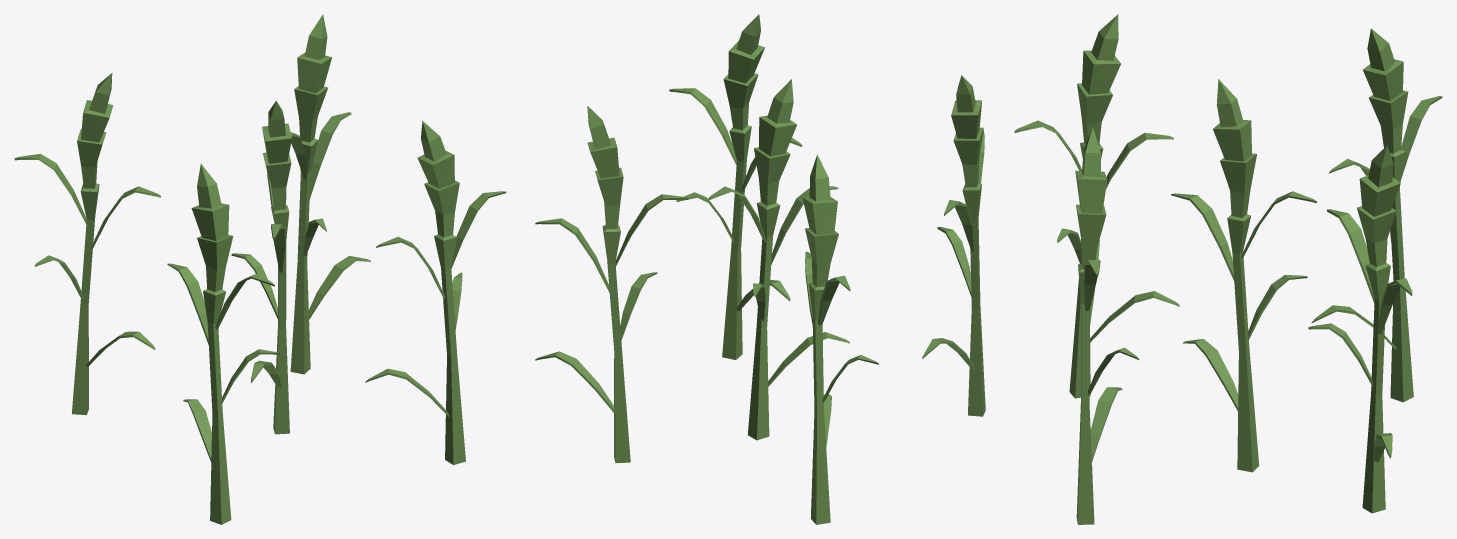
The model's file is crop_wheat.s3.glb.
The picture shows the model from 3 angles, left to right: view 1: azimuth 30°, elevation 25°; view 2: azimuth 150°, elevation 25°; view 3: azimuth 270°, elevation 25°; orthographic projection. The views are drawn at different scales.
Size of the model in its own units: 0.7528 by 0.7324 by 0.7509.
